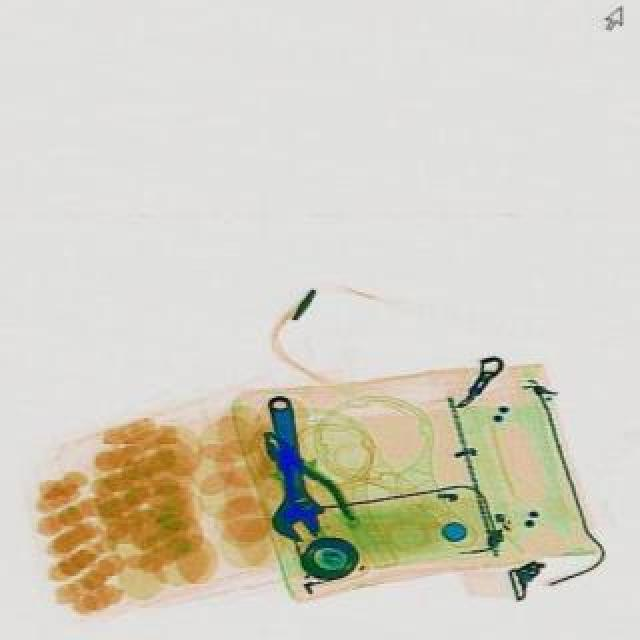scissors: (260, 392, 332, 544)
wrench: (252, 418, 364, 542)
